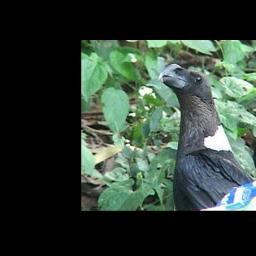Crow: (158, 64, 256, 209)
